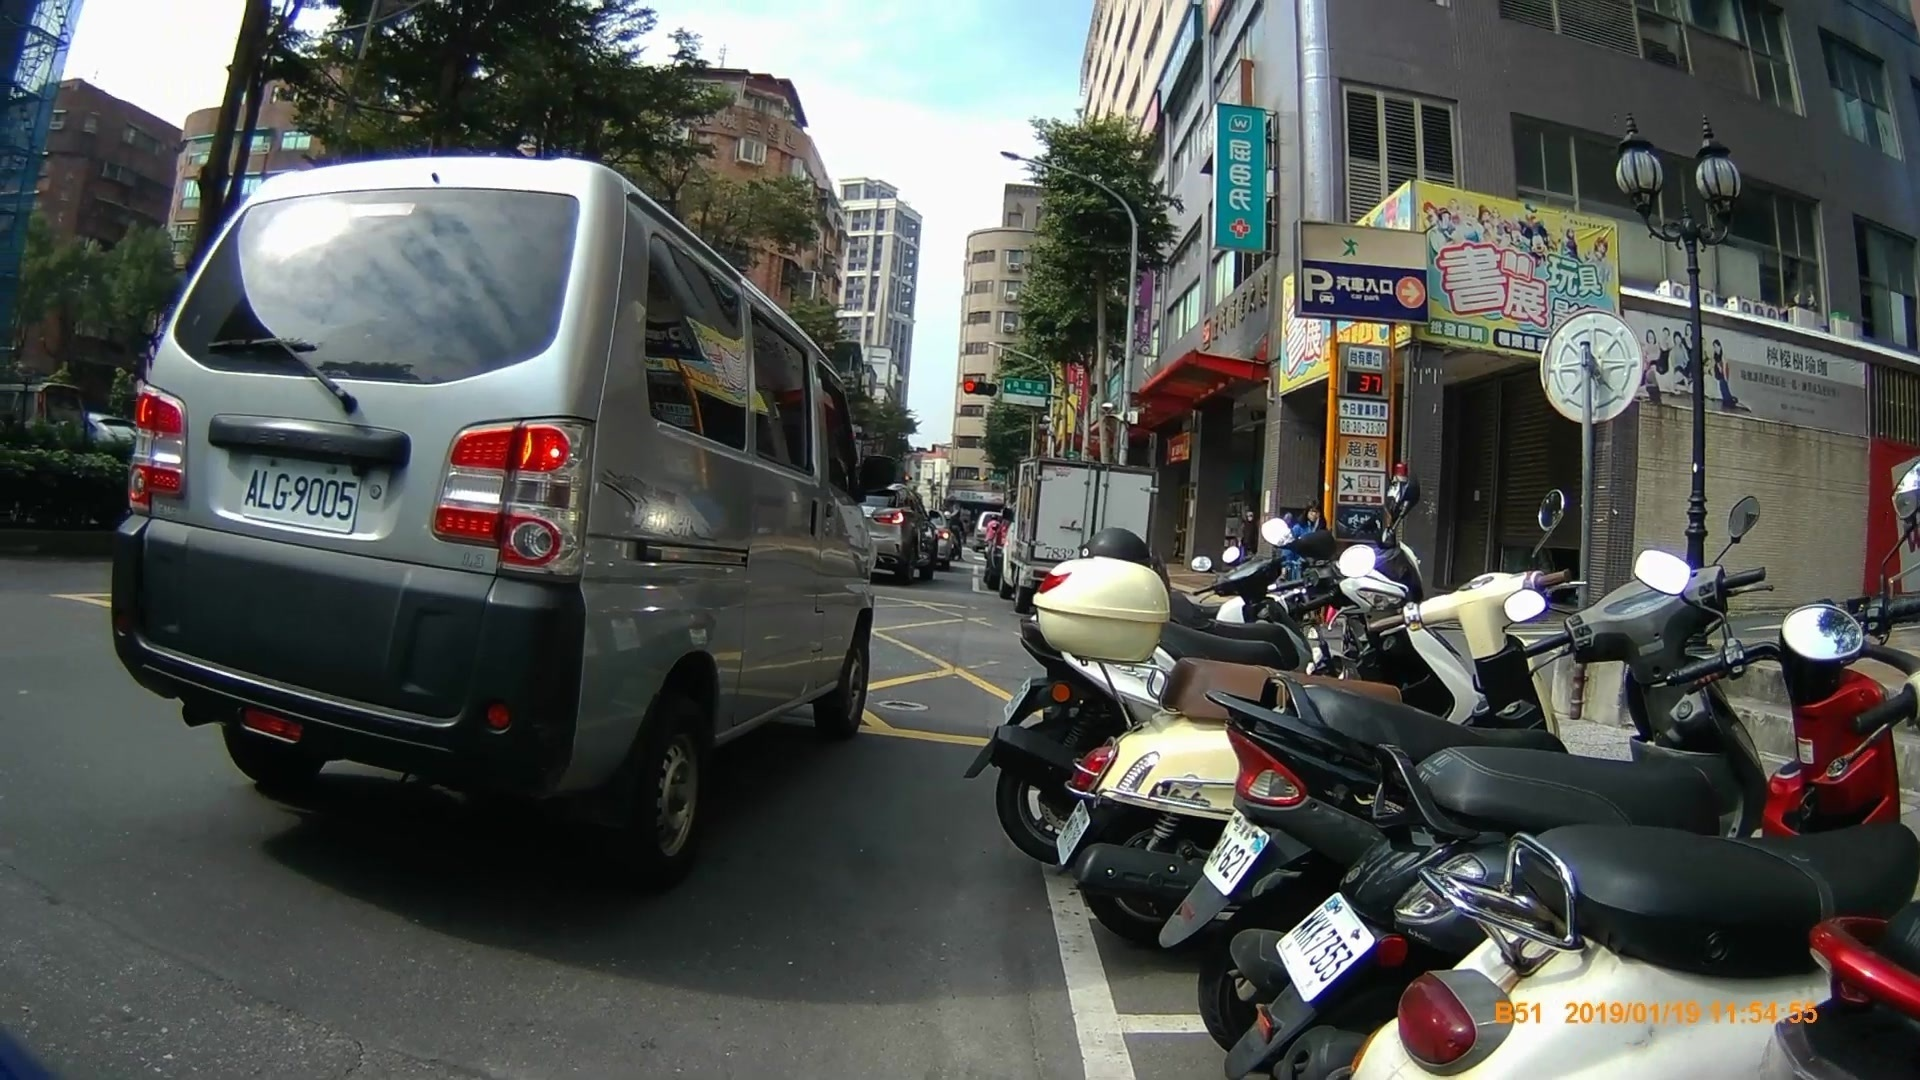License_plate: (1268, 886, 1377, 1001), (241, 456, 361, 530), (1203, 808, 1268, 895)
